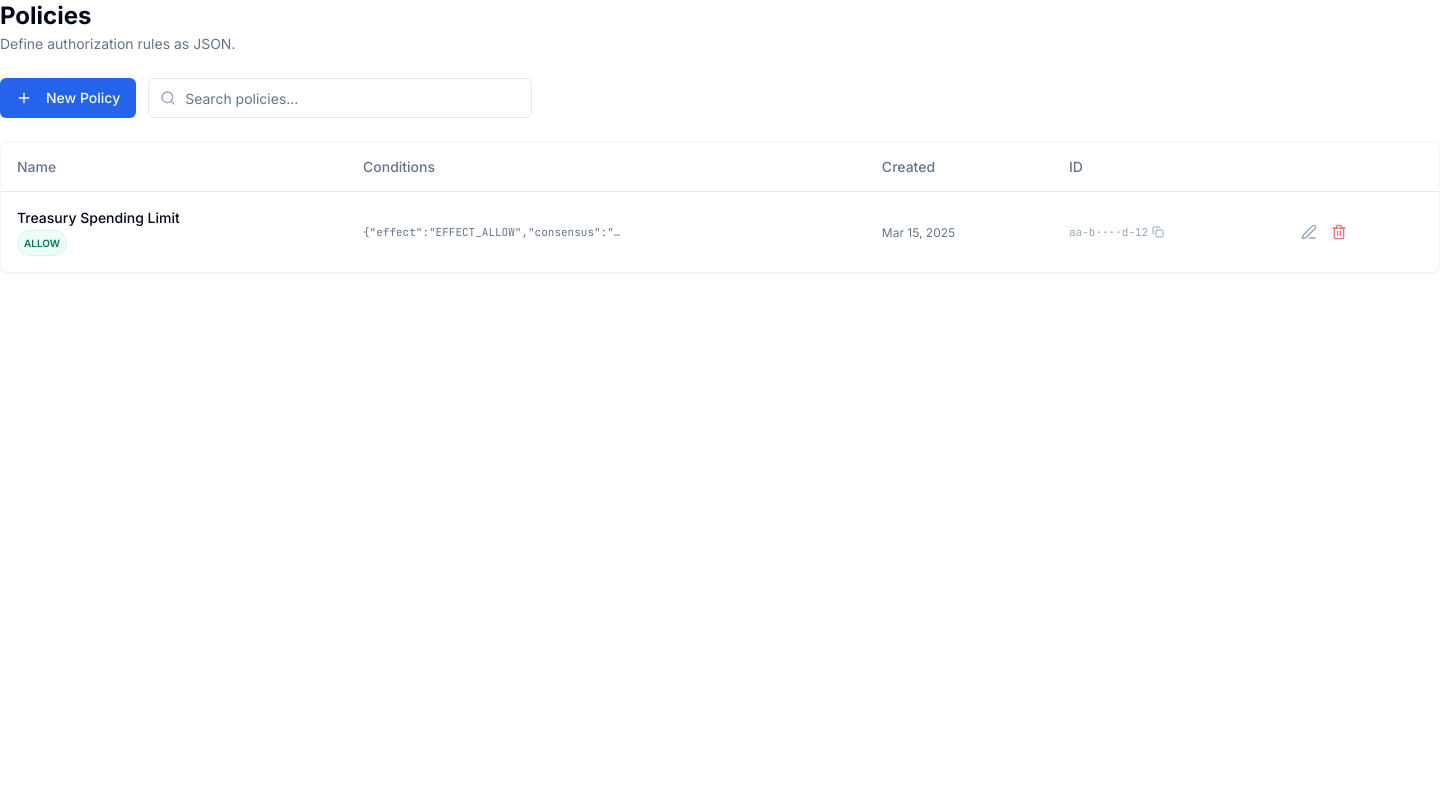
it: Policies Page › CRUD operations › updates policy via PATCH
This screenshot has width=1440, height=810.
Later steps or results of the test are not shown.
Expected: the text "Treasury Spending Limit" is shown, [17,208,180,226]
Click the 3rd button at point(1309, 232), box [1295,218,1323,246]
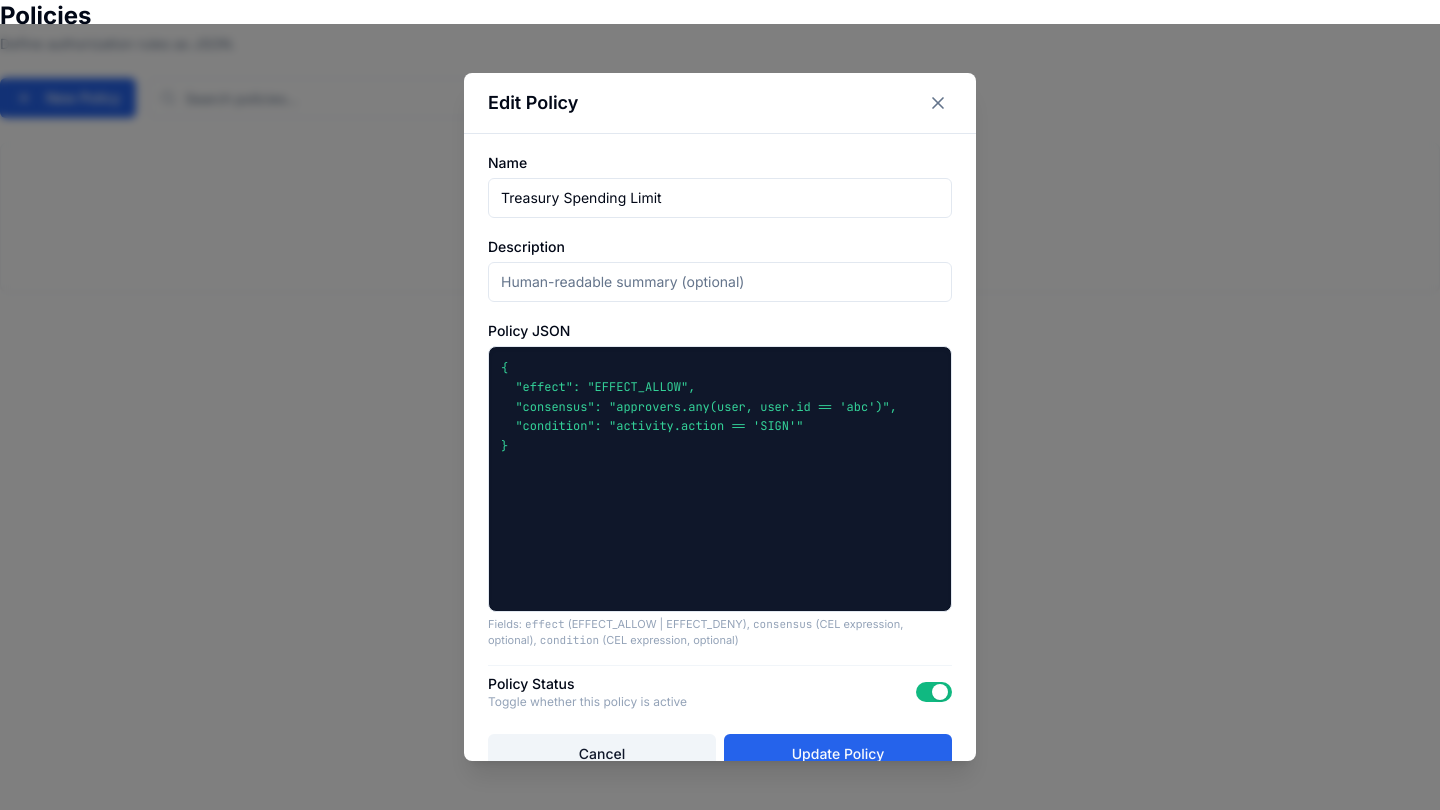
Expected: the heading "Edit Policy" is shown, [488,89,578,117]
